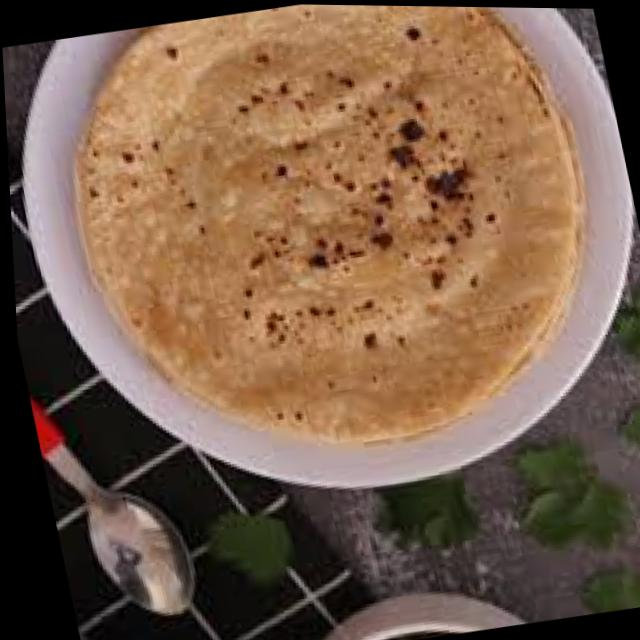CHAPATHI: (70, 5, 588, 444)
